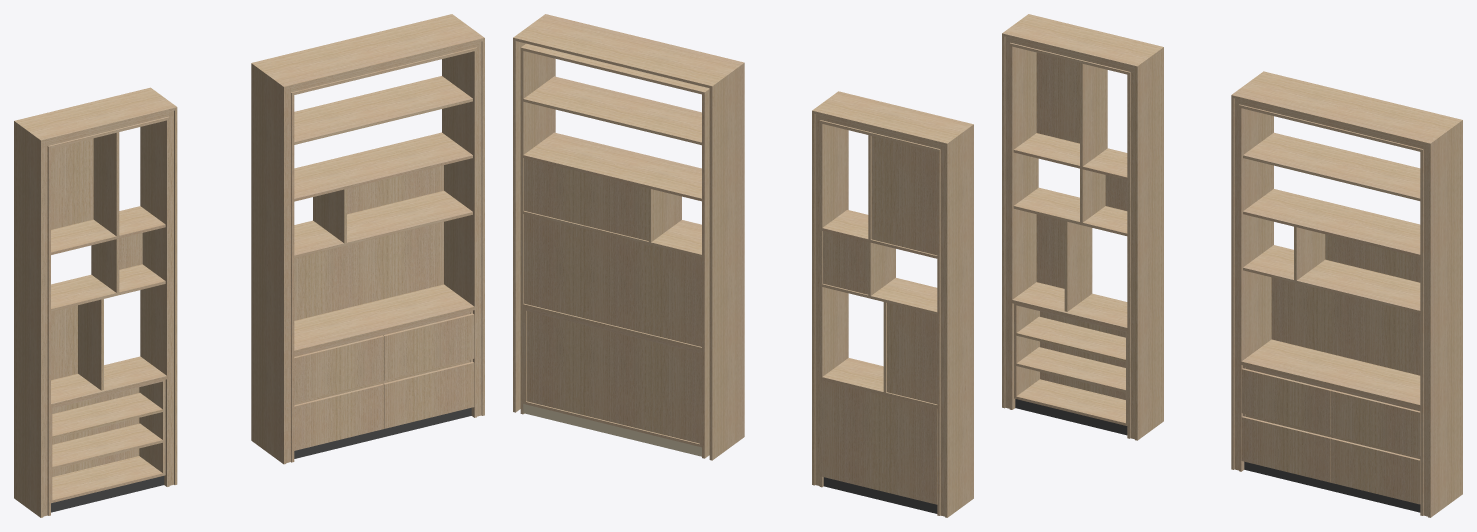
File: korpus.glb
3 renders of one model, left to right at view 1: azimuth 30°, elevation 25°; view 2: azimuth 150°, elevation 25°; view 3: azimuth 330°, elevation 25°, orthographic.
Visible parts, largest first — view 1: 2025-284 Hylle reol; view 2: 2025-284 Hylle reol; view 3: 2025-284 Hylle reol.
Part boxes in pixels (x1,y1,x2,y2): 2025-284 Hylle reol: (14, 14, 484, 517); 2025-284 Hylle reol: (513, 14, 973, 517); 2025-284 Hylle reol: (1002, 14, 1462, 517).
Size of the model in its own units: 3400 by 2800 by 439.
Materials: 7 (1 with a texture image).
